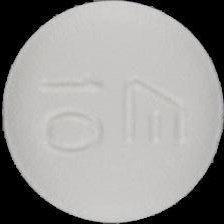51079-928: (0, 0, 224, 224)
